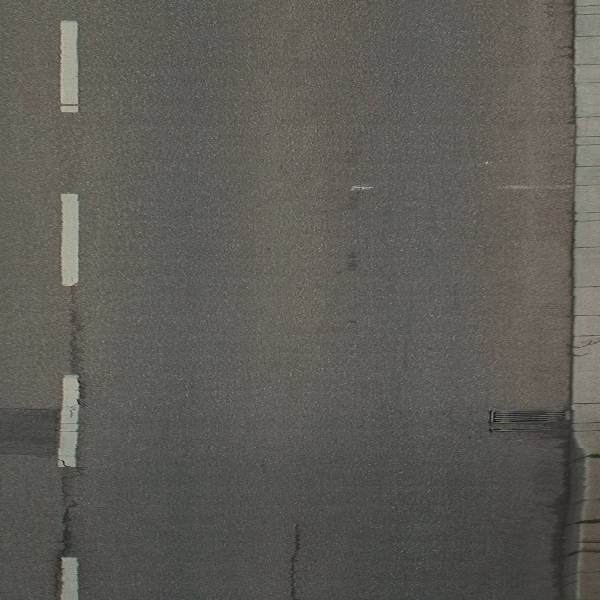road_damage: (51, 282, 91, 565), (279, 517, 311, 600)
